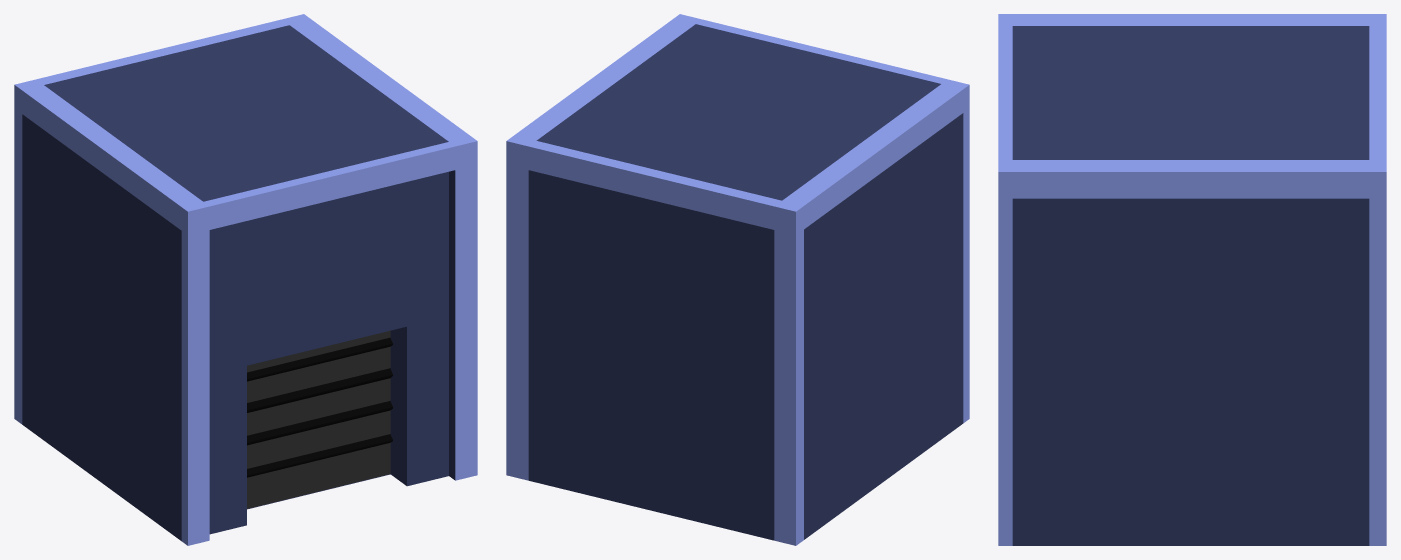
3 views of the same model, side by side, from view 1: azimuth 30°, elevation 25°; view 2: azimuth 150°, elevation 25°; view 3: azimuth 270°, elevation 25° (orthographic). The views are drawn at different scales.
Visible parts, largest first — view 1: Base, Portón; view 2: Base; view 3: Base.
Part boxes in pixels (x1,y1,x2,y2): Base: (14,14,477,545); Portón: (247,330,392,508); Base: (506,14,969,545); Base: (998,14,1386,545).
Bounding box in the file's own units: 200 × 220 × 208.
